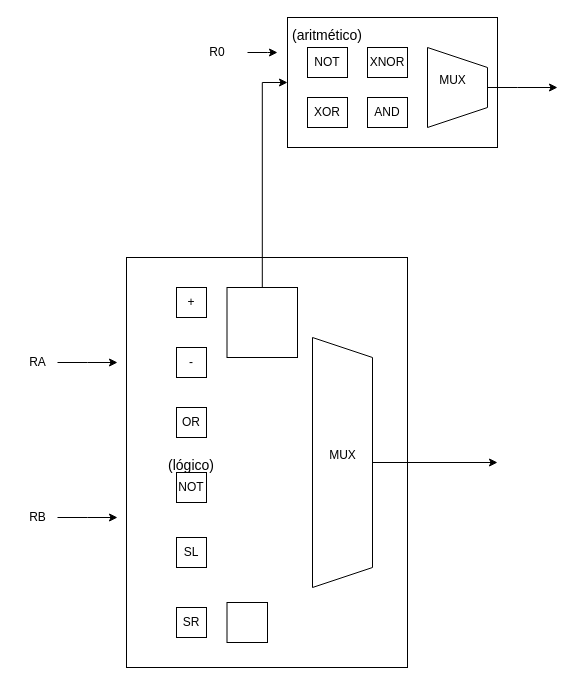
This 583x685 diagram has some shape labels left out. Each missing label, with the centre of its shape:
MULTI-OPS: (x=262, y=322)
ZERO: (x=247, y=622)
